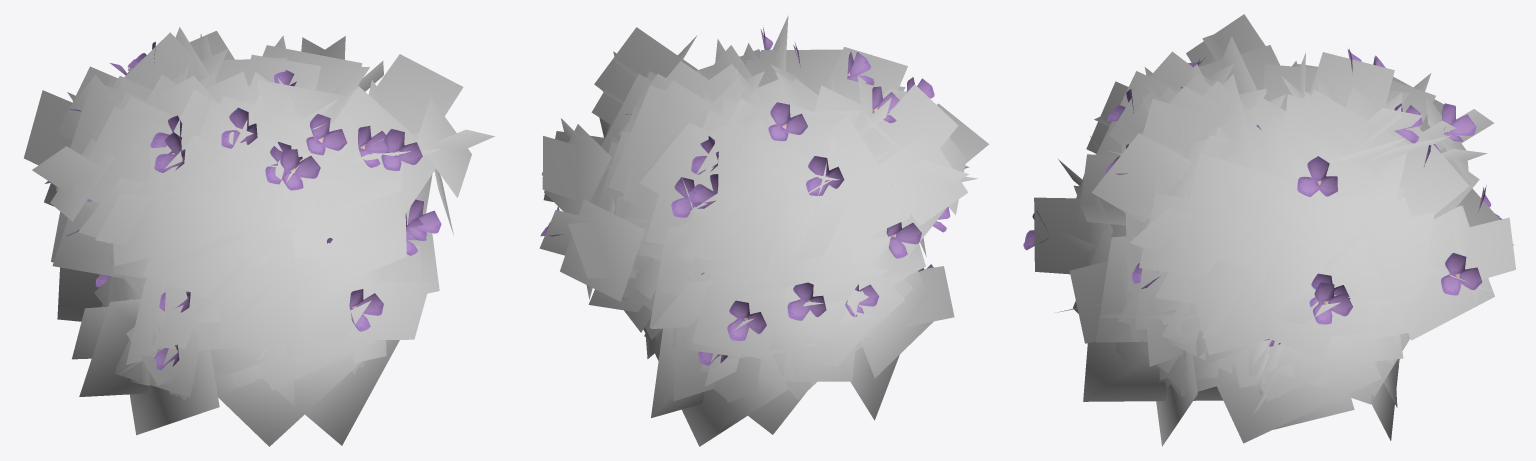
Rendered from bush_flowers.gltf.
3 renders of one model, left to right at view 1: azimuth 30°, elevation 25°; view 2: azimuth 150°, elevation 25°; view 3: azimuth 270°, elevation 25°, orthographic. The views are drawn at different scales.
Parts seen in each view (by area): view 1: Bush_Common_Flowers; view 2: Bush_Common_Flowers; view 3: Bush_Common_Flowers.
Boxes of the visible parts, x1,y1,x2,y2 form: Bush_Common_Flowers: (24, 27, 494, 446); Bush_Common_Flowers: (539, 15, 989, 446); Bush_Common_Flowers: (1023, 14, 1515, 446).
Bounding box in the file's own units: 1.91 × 1.58 × 1.97.
